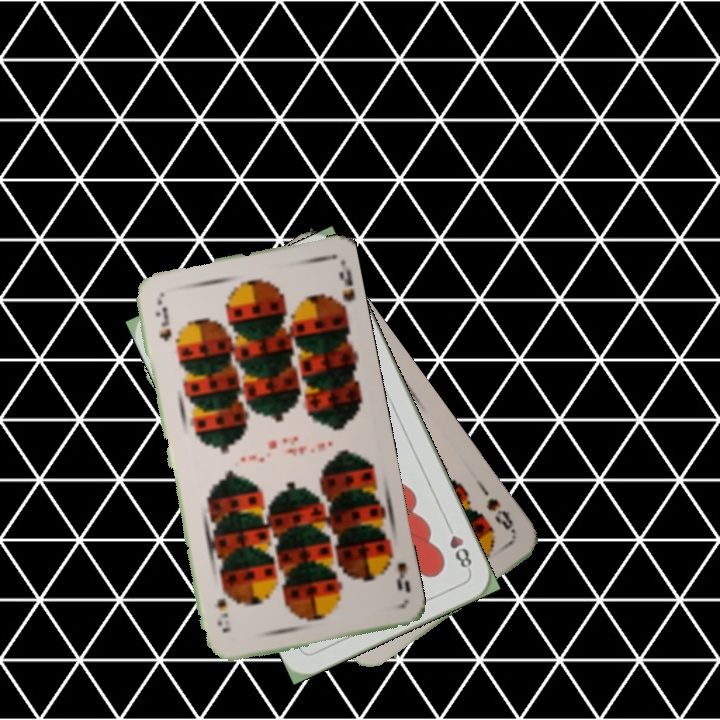H8: (442, 519, 475, 574)
S8: (482, 494, 520, 545)
S9: (380, 545, 413, 596), (152, 294, 174, 343)
